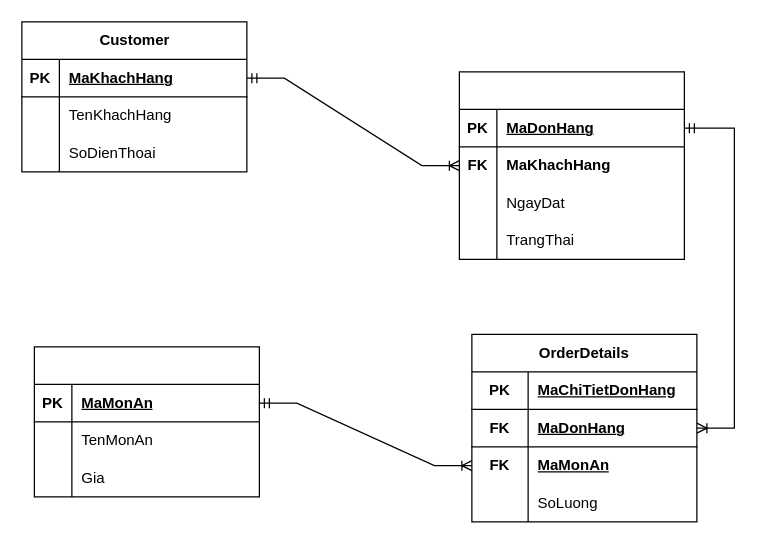
Some shapes in this 768 by 544 pixel diagram are drawn without their labels. The shapes that lost their labels are listed below. From the top down, each one's box as (x1, y1, x2, y2) in pixels, then its label:
(458, 71, 684, 259): Order
(33, 346, 259, 497): Dish
